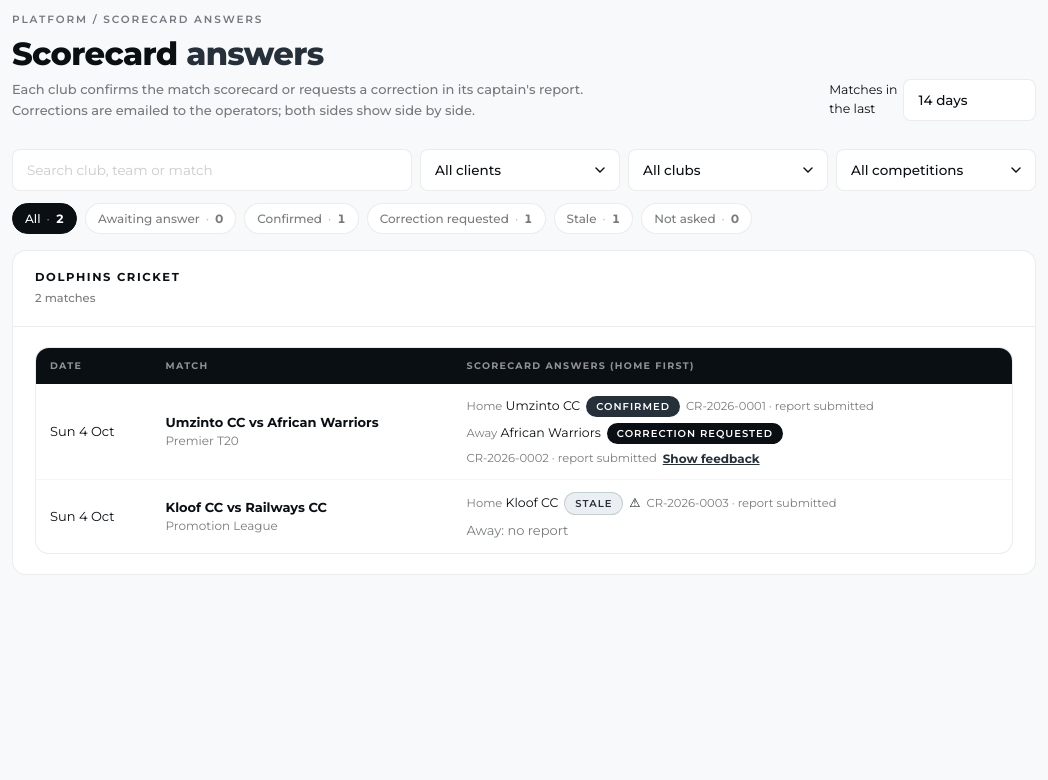
Test case: CaptainsReportScorecardsPage › "Clear filters" resets status, client, club, competition and search — not the window
The width and height of the screenshot is (1048, 780).
Check: the row with test id "scc-fixture-dolphins-s-1-f1" is shown, box [36, 383, 1012, 479]
Check: the button "Clear filters" is not shown
Select "30 days" in the dropdown named "Days" at (970, 100), box [904, 78, 1036, 120]
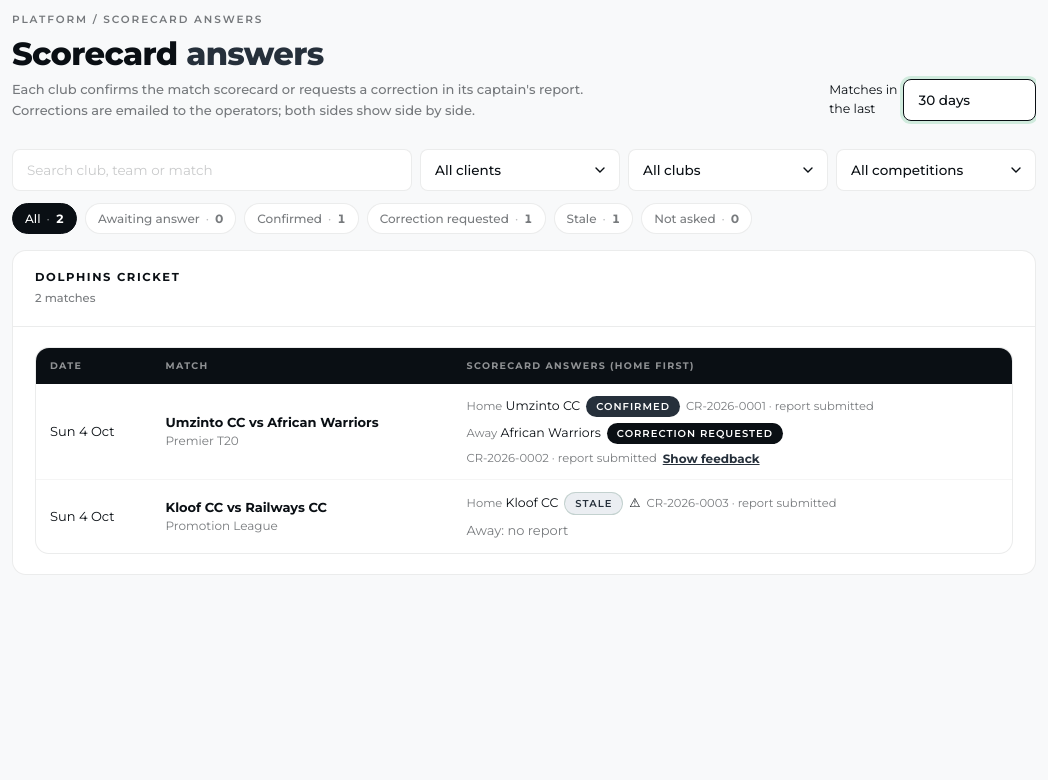
Click the button "Confirmed · 1" at (301, 218), box [244, 202, 359, 234]
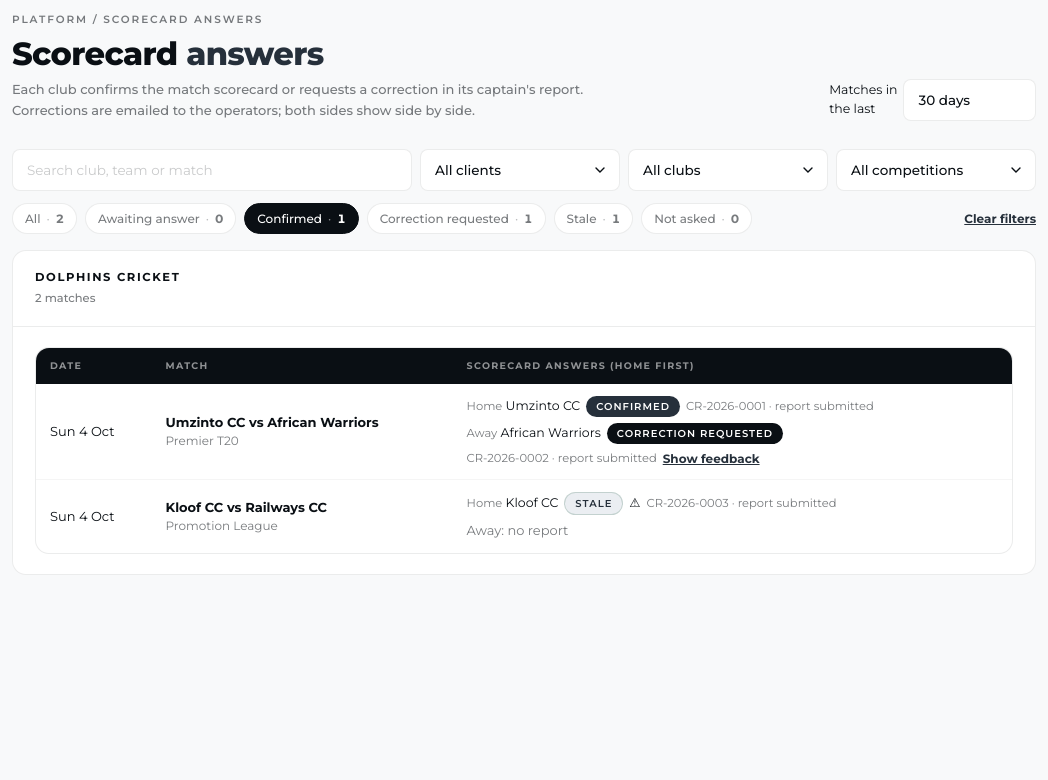
Select "Dolphins Cricket" in the dropdown named "Client" at (520, 170), box [420, 148, 620, 190]
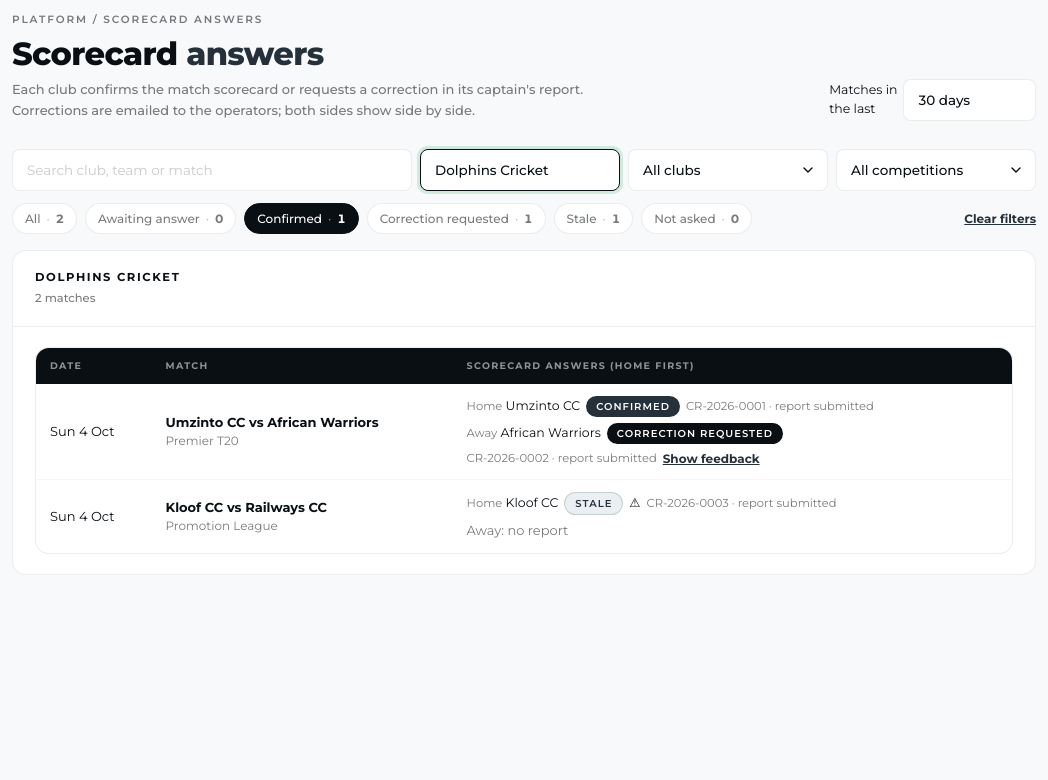
Select "Umzinto CC" in the dropdown named "Club" at (728, 170), box [628, 148, 828, 190]
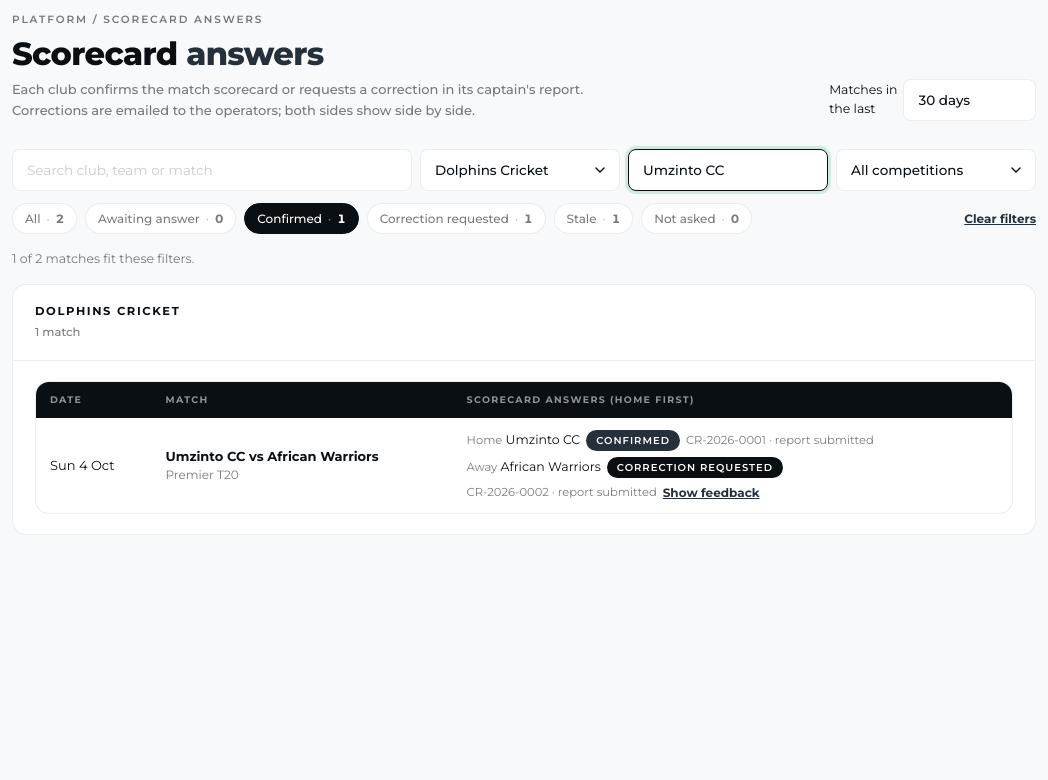
Type "umzinto" into the search field named "Search matches" at (212, 170), box [12, 148, 412, 190]
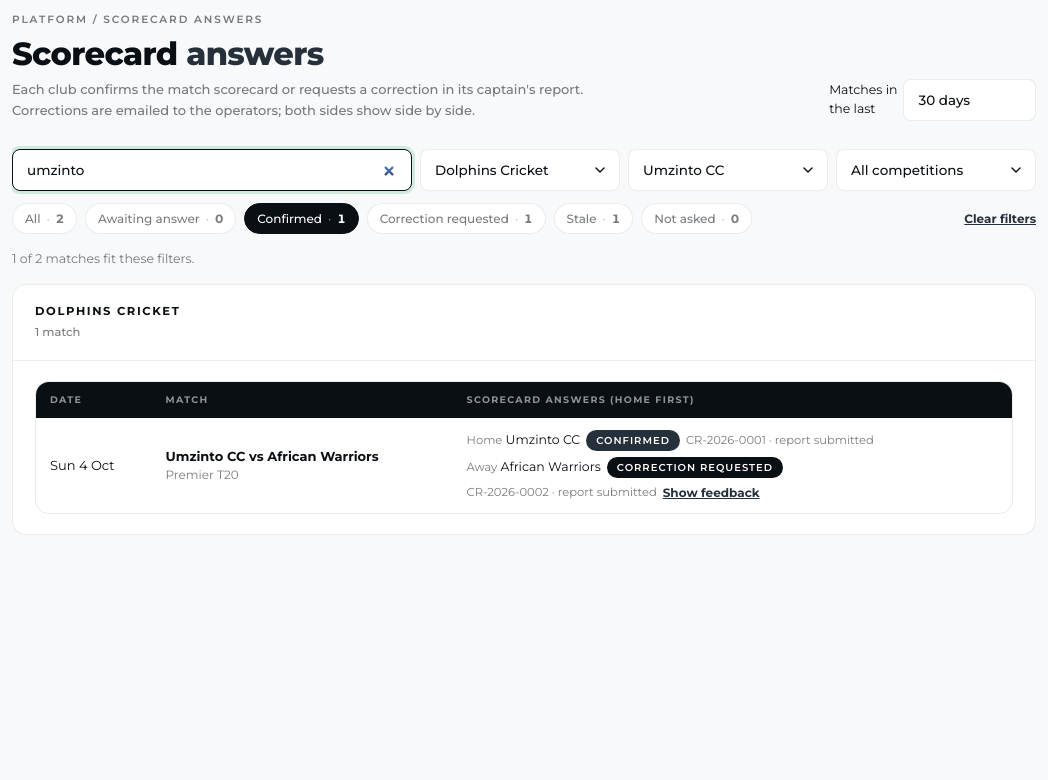
Click the button "Clear filters" at (1000, 218), box [964, 210, 1036, 226]
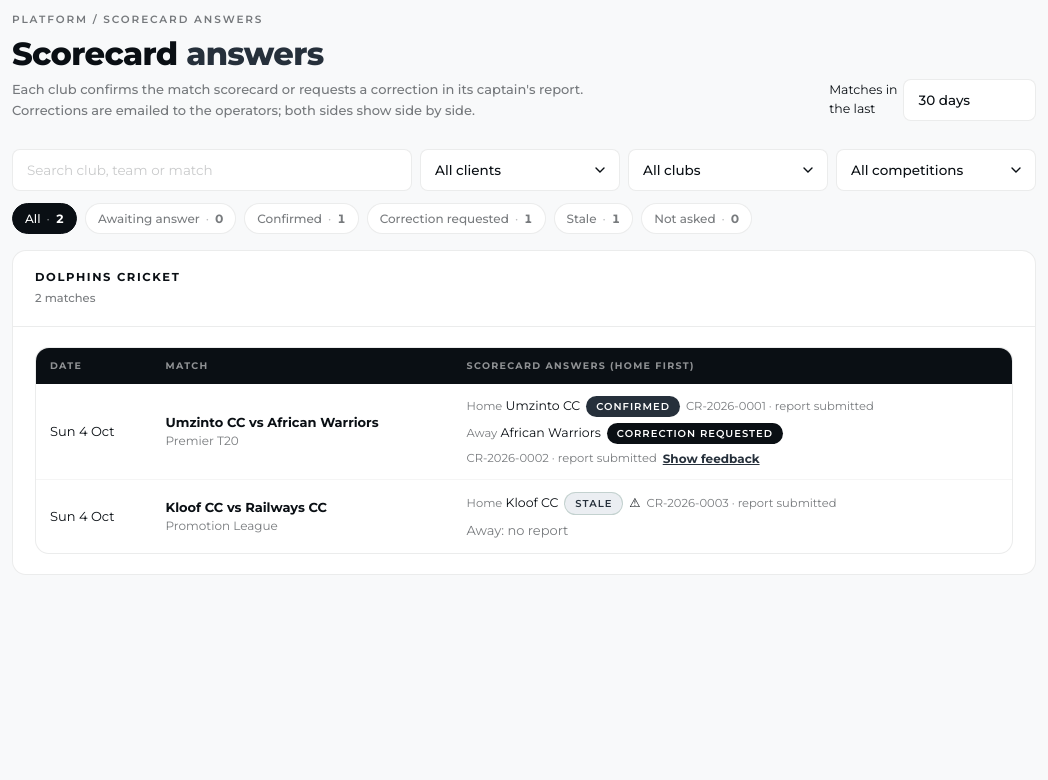
Check: the dropdown named "Competition" shows "All competitions", box [836, 148, 1036, 190]
Check: the search field named "Search matches" is empty, box [12, 148, 412, 190]
Check: the button "Clear filters" is gone
